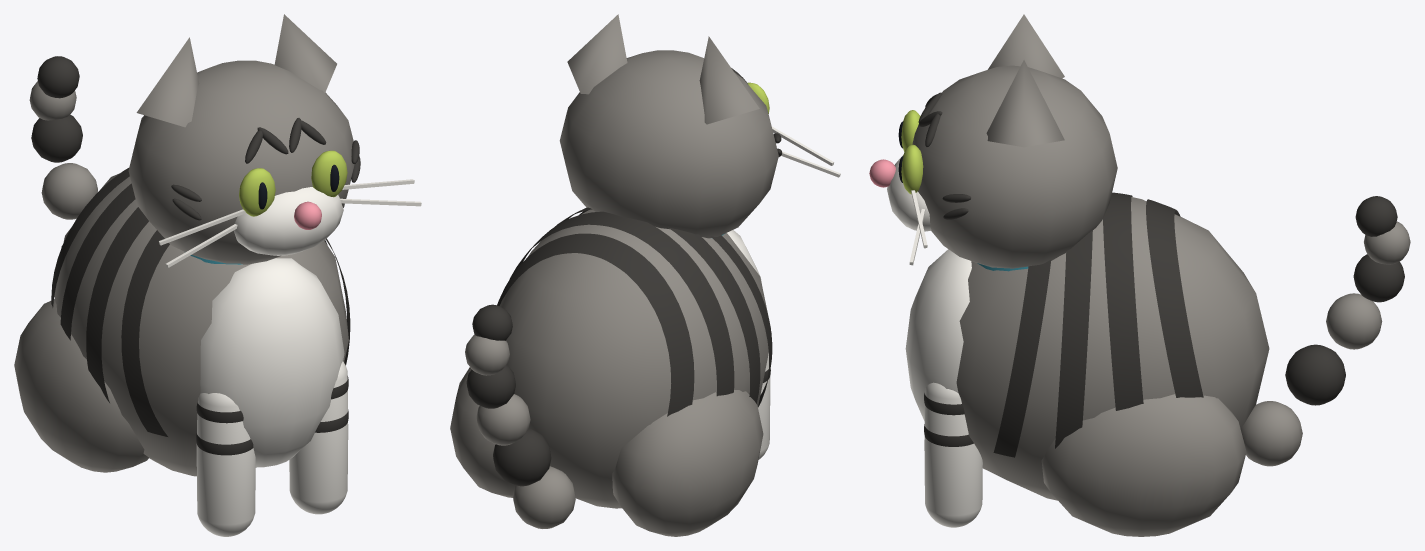
File: tabby.glb
3 views of the same model, side by side, from view 1: azimuth 30°, elevation 25°; view 2: azimuth 150°, elevation 25°; view 3: azimuth 270°, elevation 25° (orthographic). The views are drawn at different scales.
Visible parts, largest first — view 1: body, ear_-1, chest, stripe_0, tail, paw_R_leg, paw_L_leg, muzzle, eye_-1, cheek_-1_0, whisker_-1_-1, leg_-1_0 (+2 smaller); view 2: body, ear_-1, stripe_0, tail, paw_R_leg, whisker_-1_-1; view 3: body, ear_-1, stripe_0, tail, chest, paw_L_leg, eye_-1, muzzle, cheek_-1_0, leg_1_0.
Boxes of the visible parts, x1,y1,x2,y2 form: body: [14, 173, 348, 476]; ear_-1: [128, 14, 354, 264]; chest: [200, 258, 344, 467]; stripe_0: [51, 168, 350, 436]; tail: [29, 56, 97, 247]; paw_R_leg: [196, 393, 255, 536]; paw_L_leg: [289, 361, 348, 514]; muzzle: [233, 187, 343, 255]; eye_-1: [239, 150, 347, 216]; cheek_-1_0: [171, 118, 360, 220]; whisker_-1_-1: [159, 179, 421, 267]; leg_-1_0: [196, 403, 253, 455]; body: [450, 209, 770, 536]; ear_-1: [559, 14, 778, 238]; stripe_0: [497, 207, 772, 416]; tail: [465, 304, 575, 528]; paw_R_leg: [758, 353, 770, 459]; whisker_-1_-1: [771, 126, 840, 177]; body: [956, 197, 1269, 536]; ear_-1: [912, 14, 1117, 268]; stripe_0: [993, 192, 1203, 457]; tail: [1240, 196, 1410, 466]; chest: [905, 249, 971, 420]; paw_L_leg: [924, 382, 982, 527]; eye_-1: [901, 110, 923, 194]; muzzle: [887, 155, 931, 231]; cheek_-1_0: [918, 92, 970, 219]; leg_1_0: [924, 393, 973, 446].
Bounding box in the file's own units: 0.28 × 0.4388 × 0.462.
